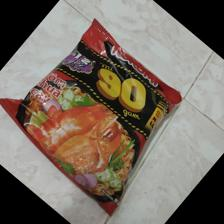Kokomi: (2, 19, 185, 217)
